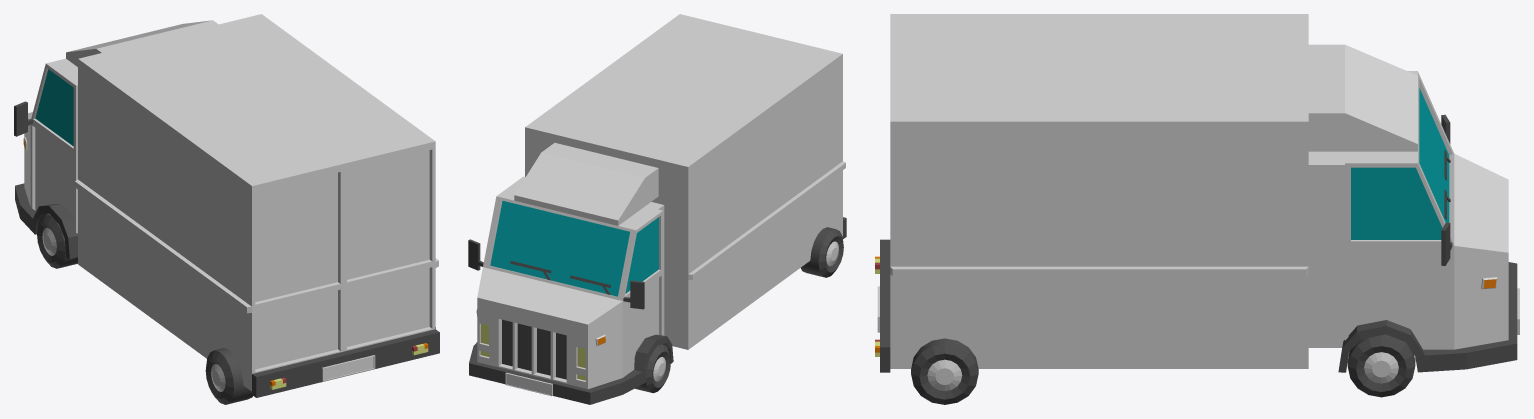
File: Camion.fbx
The picture shows the model from 3 angles, left to right: view 1: azimuth 30°, elevation 25°; view 2: azimuth 150°, elevation 25°; view 3: azimuth 270°, elevation 25°; orthographic projection. The views are drawn at different scales.
Parts seen in each view (by area): view 1: Rimorchio, Carrozzeria, Parafango_posteriore, Vetri_anteriori, Ruota_post_sx, Parafango_anteriore, Ruota_anteriore_sx, Targa_posteriore, Specchietto_sx; view 2: Rimorchio, Carrozzeria, Vetri_anteriori, Parafango_anteriore, Retro_radiatore, Ruota_post_sx, Ruota_anteriore_sx, Radiatore, Targa_anteriore, Specchietto_sx, Fari_anteriori, Specchietto_dx; view 3: Rimorchio, Carrozzeria, Vetri_anteriori, Parafango_anteriore, Ruota_post_dx, Ruota_anteriore_dx, Parafango_posteriore.
Part boxes in pixels (x1,y1,x2,y2): Rimorchio: [75, 14, 438, 391]; Carrozzeria: [24, 20, 218, 233]; Parafango_posteriore: [252, 329, 439, 397]; Vetri_anteriori: [35, 69, 73, 146]; Ruota_post_sx: [205, 348, 252, 404]; Parafango_anteriore: [15, 183, 77, 258]; Ruota_anteriore_sx: [37, 213, 77, 268]; Targa_posteriore: [322, 355, 375, 381]; Specchietto_sx: [14, 101, 32, 136]; Rimorchio: [525, 14, 845, 349]; Carrozzeria: [477, 143, 662, 389]; Vetri_anteriori: [490, 201, 658, 296]; Parafango_anteriore: [469, 334, 673, 404]; Retro_radiatore: [502, 319, 566, 379]; Ruota_post_sx: [801, 227, 843, 277]; Ruota_anteriore_sx: [635, 344, 670, 393]; Radiatore: [512, 322, 555, 379]; Targa_anteriore: [505, 372, 552, 396]; Specchietto_sx: [623, 280, 644, 309]; Fari_anteriori: [480, 324, 585, 380]; Specchietto_dx: [468, 239, 483, 270]; Rimorchio: [890, 14, 1344, 368]; Carrozzeria: [1308, 44, 1508, 361]; Vetri_anteriori: [1351, 88, 1449, 239]; Parafango_anteriore: [1338, 262, 1517, 372]; Ruota_post_dx: [911, 338, 978, 404]; Ruota_anteriore_dx: [1347, 334, 1415, 397]; Parafango_posteriore: [880, 239, 890, 372].
Size of the model in its own units: 4 by 4.21 by 8.86.
